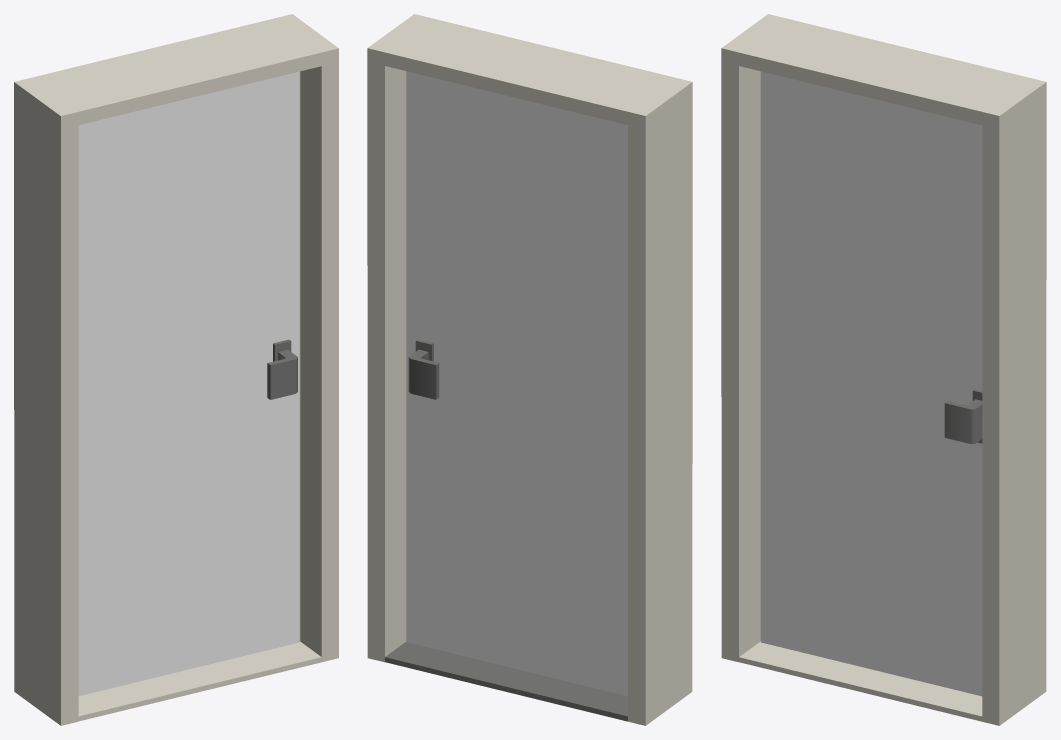
File: Door_02.fbx
3 renders of one model, left to right at view 1: azimuth 30°, elevation 25°; view 2: azimuth 150°, elevation 25°; view 3: azimuth 330°, elevation 25°, orthographic.
Parts seen in each view (by area): view 1: Door_02, Door_02_Frame; view 2: Door_02, Door_02_Frame; view 3: Door_02, Door_02_Frame.
Part boxes in pixels (x1,y1,x2,y2): Door_02: [78, 71, 300, 695]; Door_02_Frame: [14, 14, 338, 725]; Door_02: [406, 71, 627, 695]; Door_02_Frame: [367, 14, 692, 725]; Door_02: [760, 71, 982, 696]; Door_02_Frame: [721, 14, 1046, 725].
Size of the model in its own units: 1.03 by 2.16 by 0.3.
